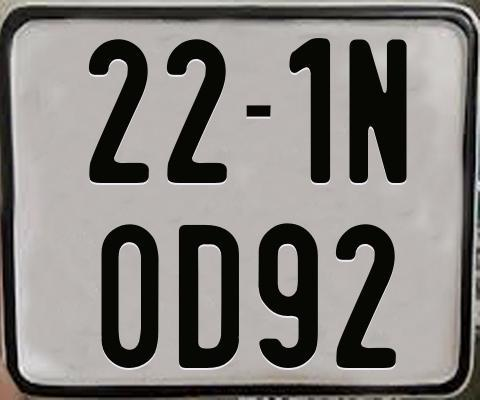0: (101, 223, 161, 373)
1: (288, 37, 330, 186)
2: (165, 38, 230, 183), (88, 36, 151, 185), (336, 222, 399, 371)
9: (258, 220, 318, 370)
D: (176, 223, 241, 370)
N: (346, 38, 404, 184)
